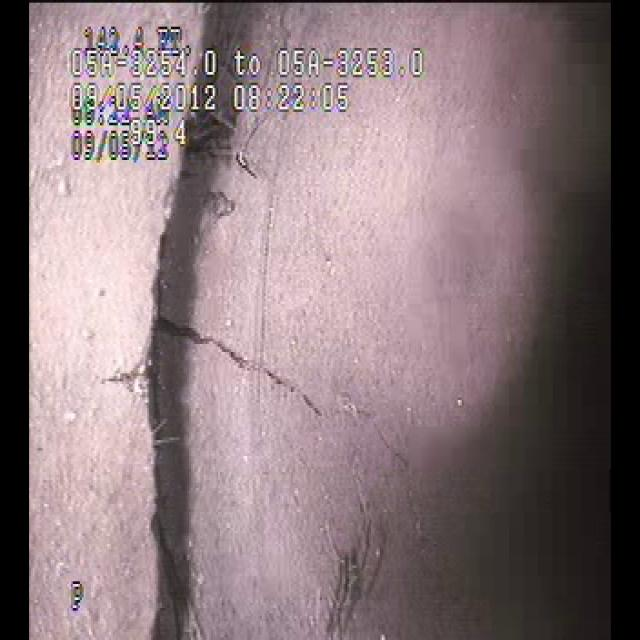Crack: (146, 265, 405, 482)
